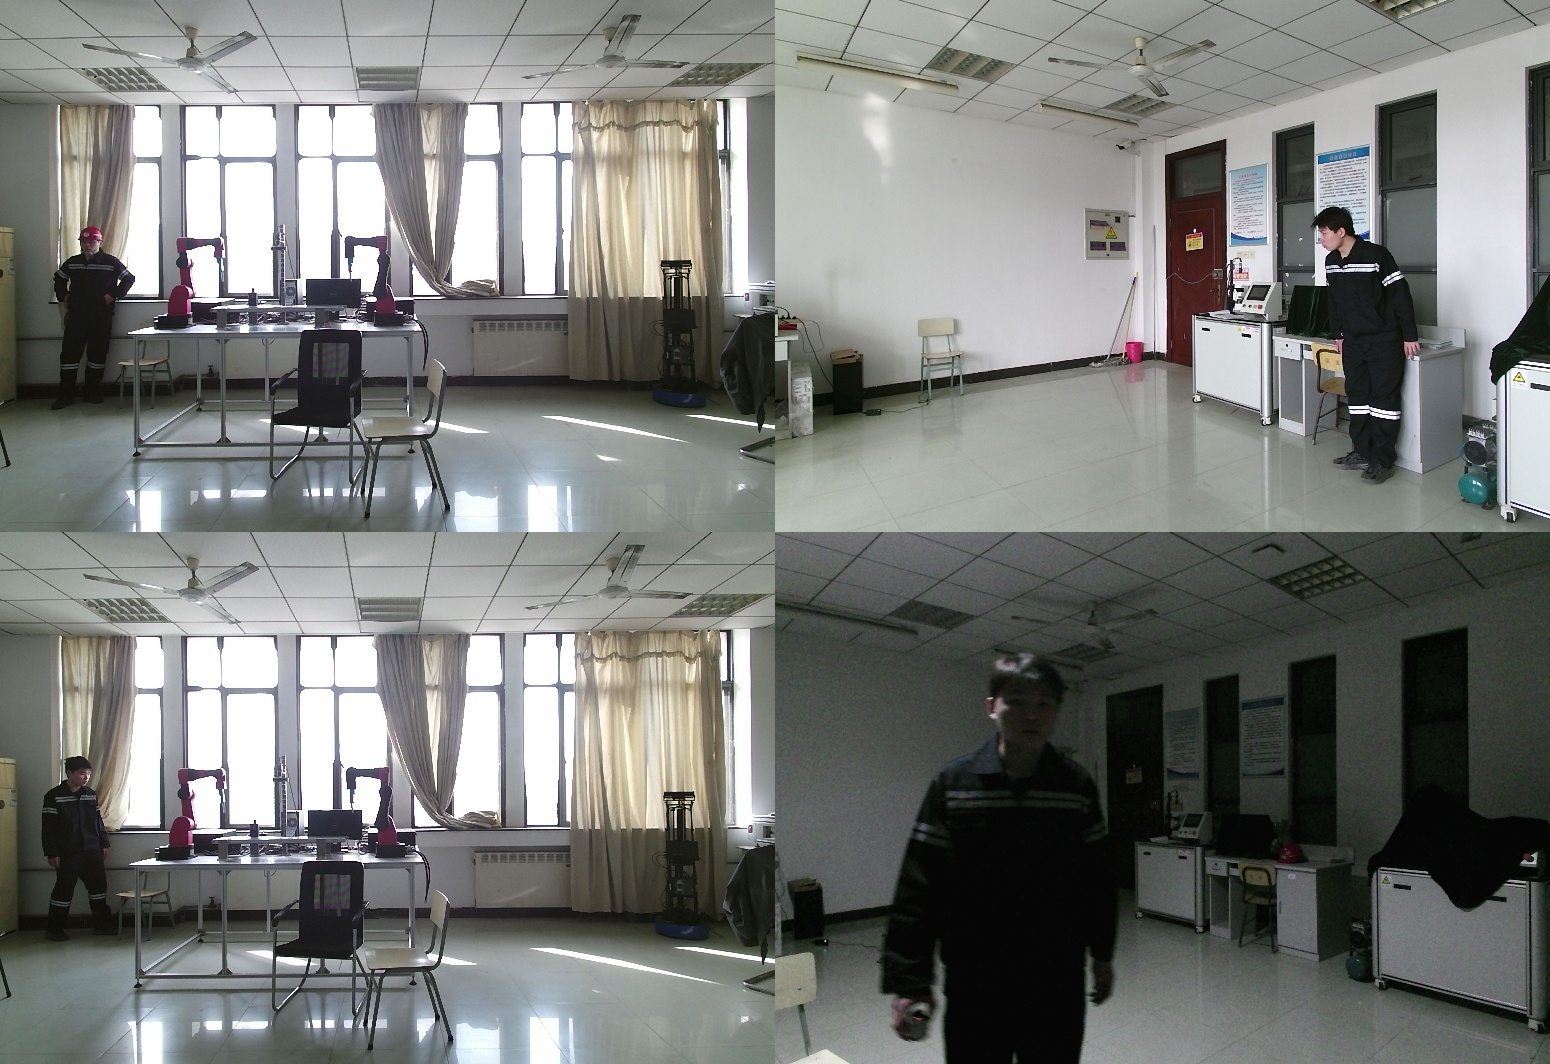person: (880, 654, 1130, 1064), (1314, 207, 1426, 481), (35, 758, 118, 942), (54, 231, 135, 404)
